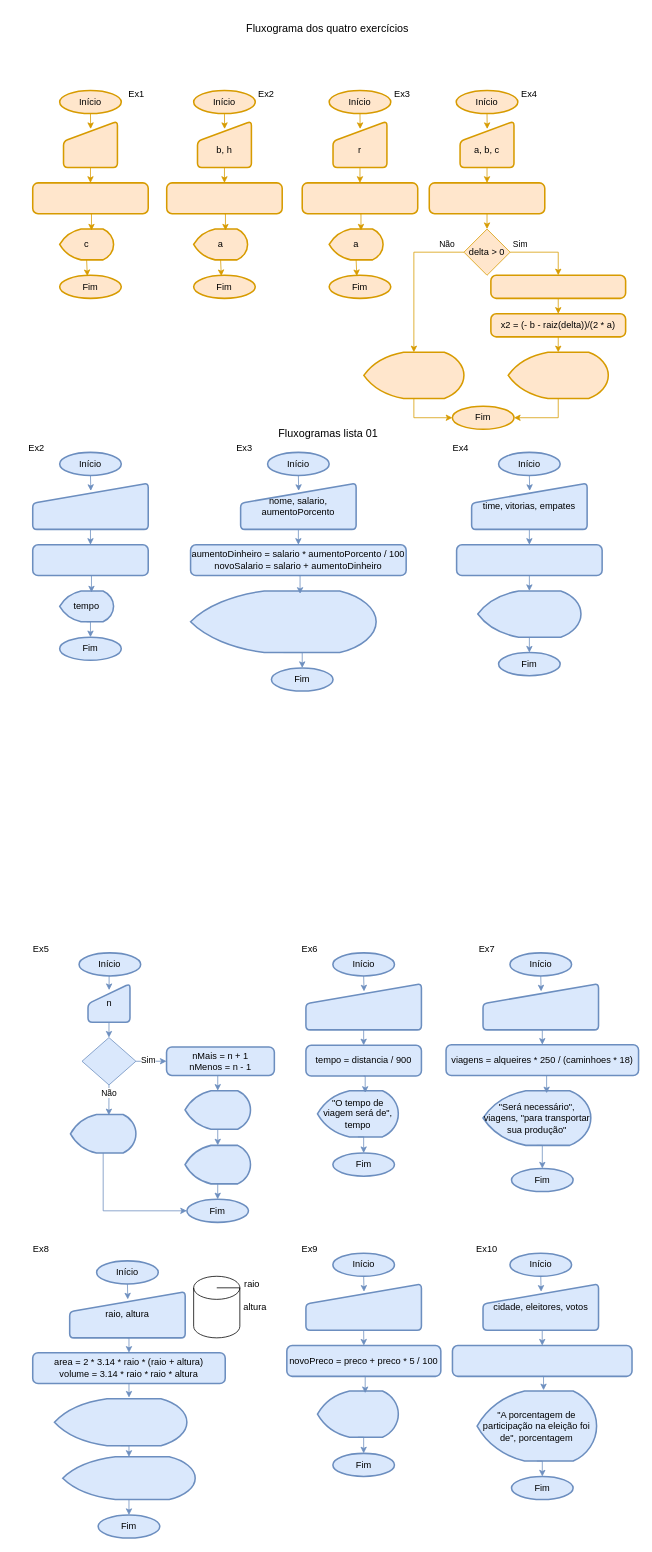
Some shapes in this 652 by 1552 pixel diagram are drawn without their labels. Each missing label, with the centre of its shape:
"A expressão não possui raízes reais": [413,375]
"A área do cilindro é", area: [120,1422]
"As raízes são:", x1, x2: [558,375]
"O novo preço do(a)", nome, "é", novoPreco: [357,1414]
"O número não é positivo": [102,1133]
"O total de pontos do", time, "é", pontos: [529,614]
"O volume cilindro é", volune: [129,1478]
a = 3.14 * r * r: [359,198]
a = b * h: [224,198]
alqueires, caminhoes: [540,1006]
c = 2 * n1 + n2 * n2: [90,198]
delta = b * b - 4 * a * c: [486,198]
distancia: [363,1006]
n > 0: [108,1061]
n, " + 1 = ", nMais: [217,1110]
n, " - 1 = ", nMenos: [217,1164]
n1, n2: [90,144]
nome, "seu novo salário é", novoSalario: [283,621]
nome, preco: [363,1307]
pontos = vitorias * 3 + empates: [529,560]
porcentagem = votos / eleitores * 100: [541,1360]
tempo = distancia / velocidade: [90,560]
velocidade, distancia: [90,506]
x1 = (- b + raiz(delta))/(2 * a): [558,286]
